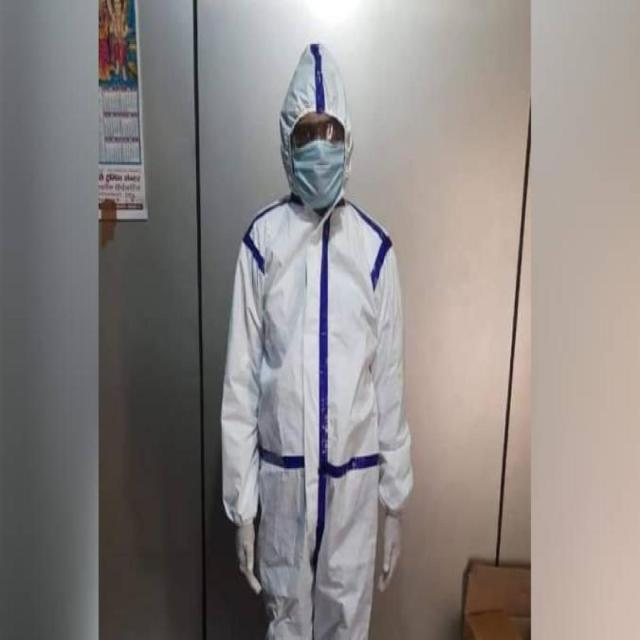Coverall: (220, 43, 413, 638)
Gloves: (234, 526, 264, 596), (378, 510, 403, 593)
Mask: (291, 139, 345, 210)
